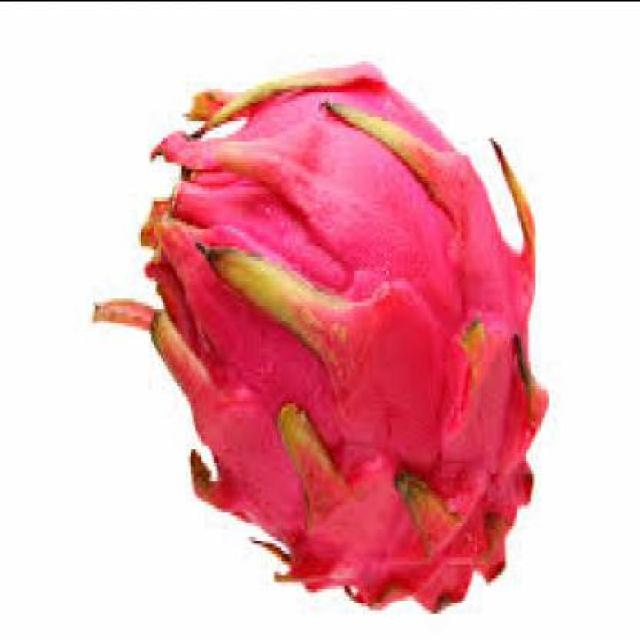BIODEGRADABLE: (96, 65, 546, 609)
